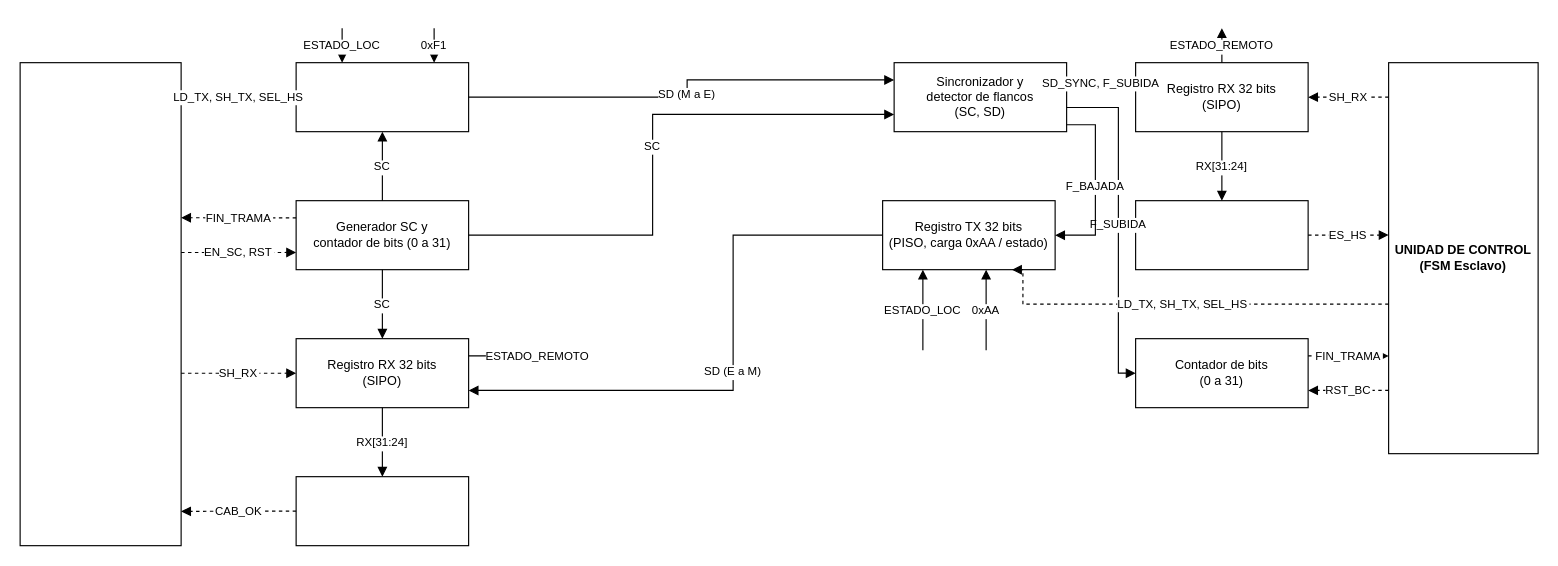
Some shapes in this 1558 by 566 pixel diagram are drawn without their labels. The shapes that lost their labels are listed below. From the top down, each one's centre as x and y in pixels, then its label:
point (382, 97): Registro TX 32 bits (PISO, carga 0xF1 / trama)
point (1221, 235): Comparador comando = 0xF1
point (100, 304): UNIDAD DE CONTROL (FSM Maestro)
point (382, 511): Comparador cabecera = 0xAA
